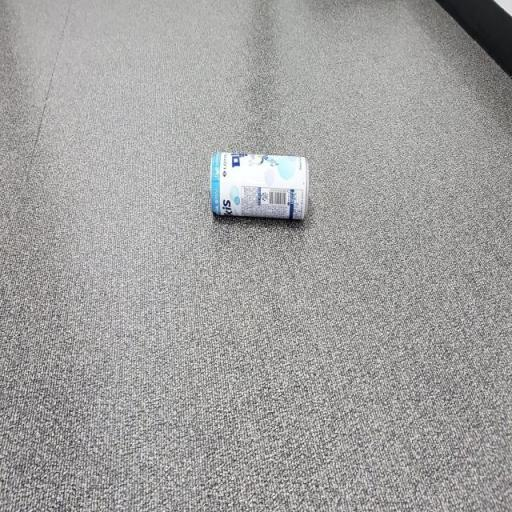metal: (206, 144, 312, 242)
